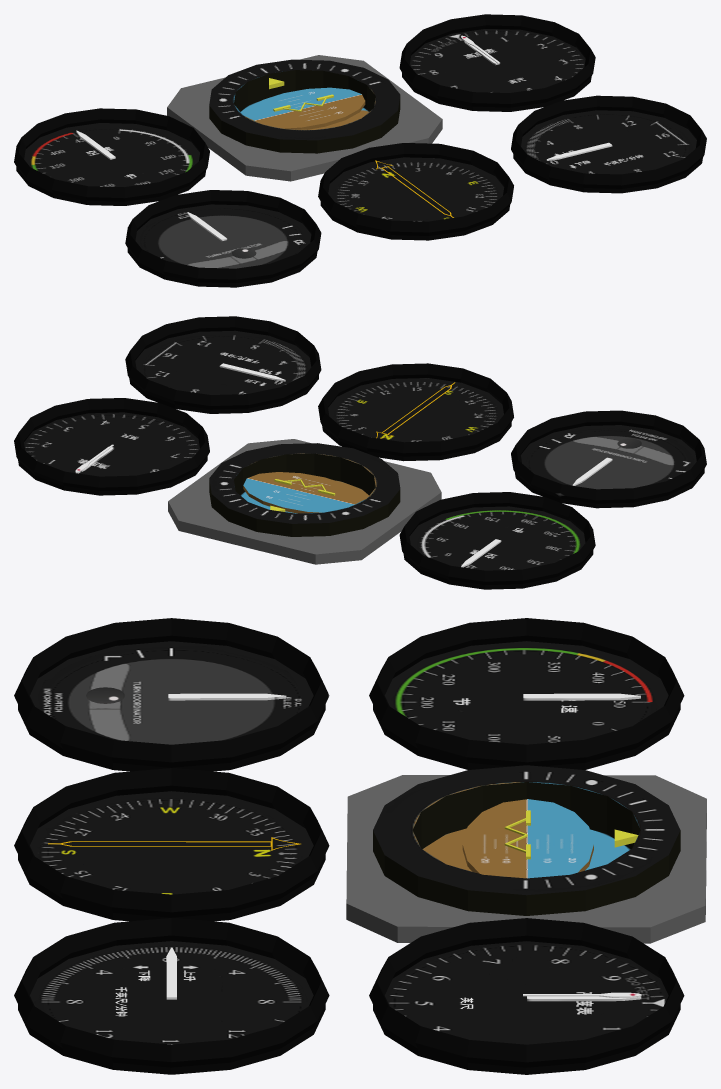
The model's file is IndicatorBody.fbx.
The picture shows the model from 3 angles, top to bottom: view 1: azimuth 30°, elevation 25°; view 2: azimuth 150°, elevation 25°; view 3: azimuth 270°, elevation 25°; orthographic projection. The views are drawn at different scales.
Parts seen in each view (by area): view 1: CPS_case, AS_case, ALT_case, VSI_case, TRN_case, AHI_case, AHI_outercase, AHI_course, AHI_course2; view 2: CPS_case, AS_case, ALT_case, VSI_case, TRN_case, AHI_case, AHI_outercase, AHI_course; view 3: CPS_case, VSI_case, ALT_case, AS_case, TRN_case, AHI_case, AHI_outercase, AHI_course, AHI_course2, TRN_pointer, AS_pointer.
Part boxes in pixels (x1,y1,x2,y2): CPS_case: [318, 143, 513, 240]; AS_case: [14, 108, 209, 205]; ALT_case: [399, 14, 595, 111]; VSI_case: [511, 95, 706, 193]; TRN_case: [125, 190, 321, 287]; AHI_case: [209, 59, 400, 153]; AHI_outercase: [167, 55, 442, 181]; AHI_course: [243, 87, 365, 129]; AHI_course2: [240, 78, 368, 129]; CPS_case: [318, 363, 513, 461]; AS_case: [399, 492, 595, 589]; ALT_case: [14, 398, 209, 495]; VSI_case: [125, 316, 321, 413]; TRN_case: [511, 410, 706, 508]; AHI_case: [209, 443, 400, 536]; AHI_outercase: [168, 439, 441, 564]; AHI_course: [243, 472, 364, 513]; CPS_case: [14, 768, 329, 921]; VSI_case: [14, 918, 329, 1074]; ALT_case: [369, 918, 684, 1074]; AS_case: [369, 618, 684, 769]; TRN_case: [14, 618, 329, 771]; AHI_case: [373, 765, 680, 915]; AHI_outercase: [346, 775, 706, 943]; AHI_course: [462, 799, 593, 878]; AHI_course2: [422, 828, 638, 871]; TRN_pointer: [168, 693, 286, 700]; AS_pointer: [523, 693, 640, 700].
Bounding box in the file's own units: 52 × 2.14 × 35.14.
1 material, 1 textured.
